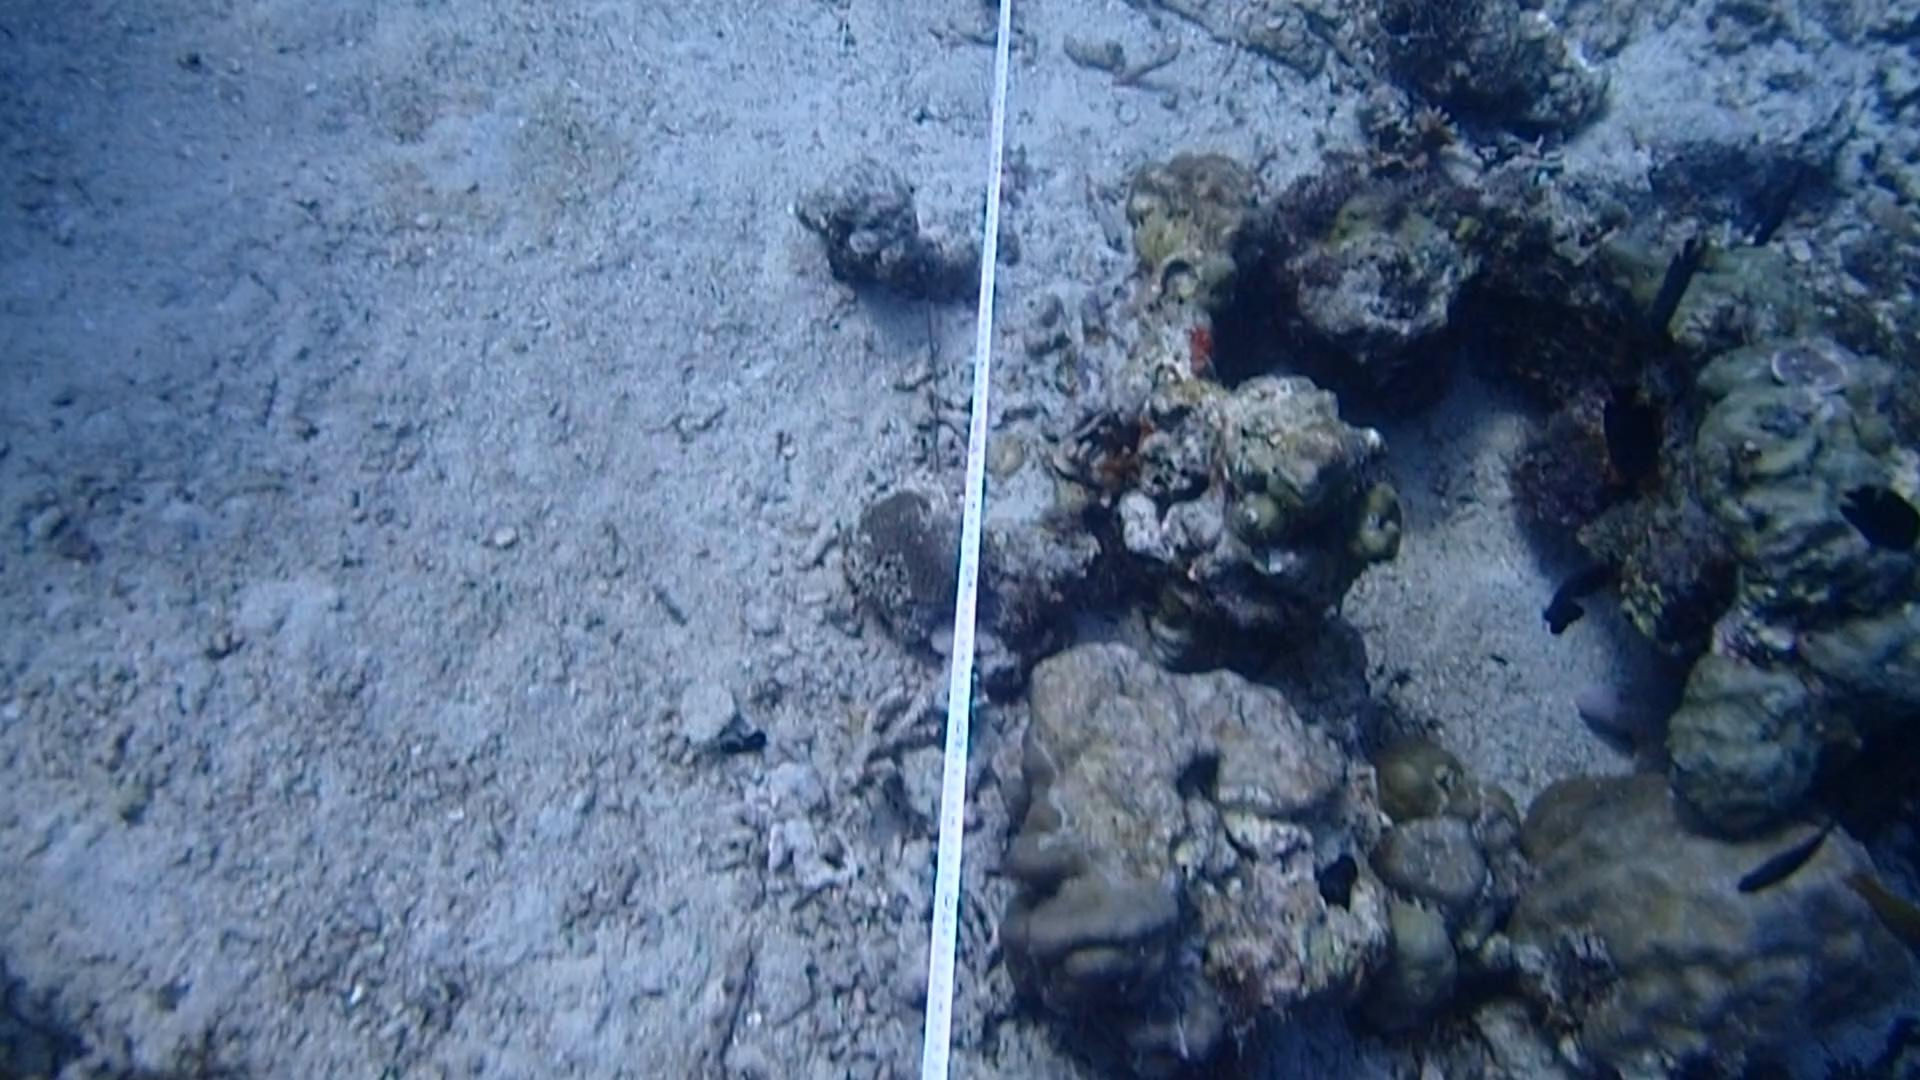Dark Fish: (1585, 363, 1669, 495), (1729, 807, 1837, 899), (1633, 223, 1713, 340), (1522, 545, 1619, 641), (1828, 468, 1920, 554), (1741, 170, 1811, 249)
Half Blue - Half Yellow: (1828, 851, 1920, 955)
